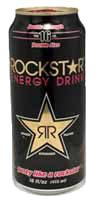grozi_113: (9, 7, 85, 196)
